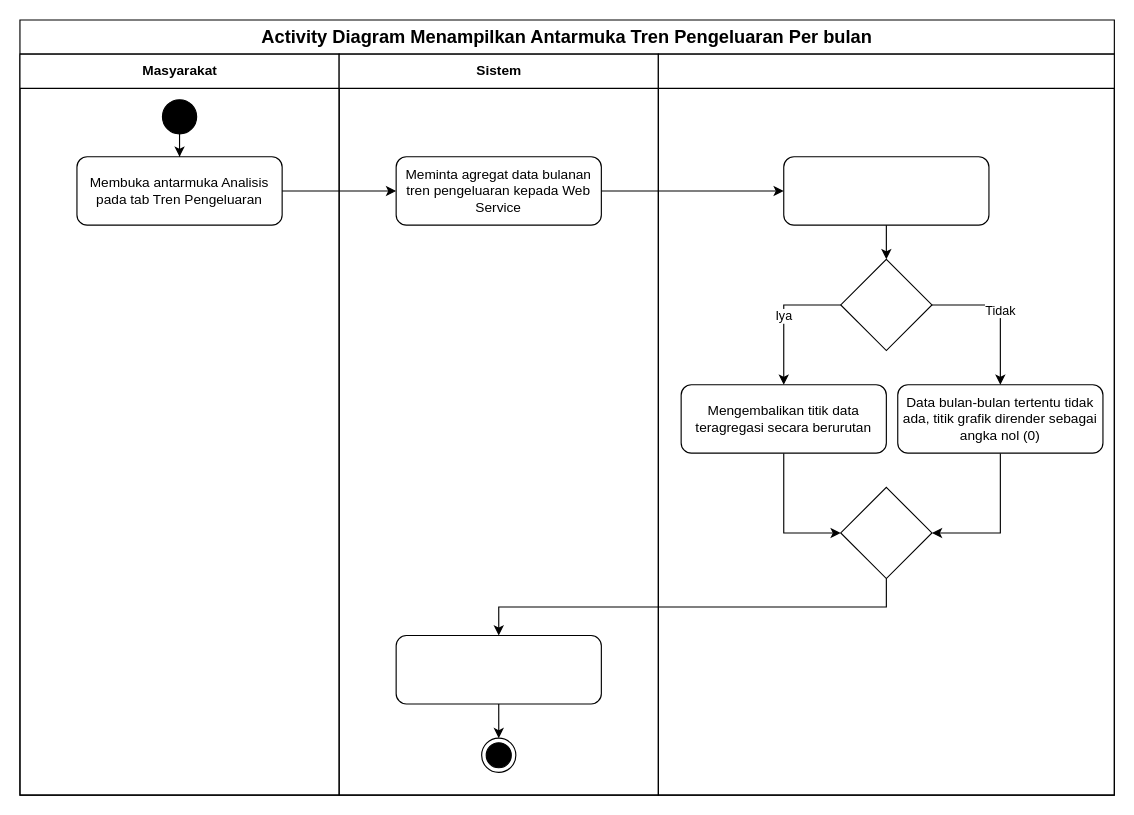
Image size: 1134x815. Some labels were removed from this diagram. Here are the shapes that lost their labels. From the top down, the centre of each, then its label:
point (886, 190): Mengalkulasi total pengeluaran bulanan dari basis data
point (886, 304): Data tersedia?
point (498, 669): Merender data tersebut ke dalam visualisasi grafik garis (*line chart*)
